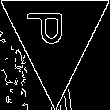P_E: (33, 18, 77, 55)
